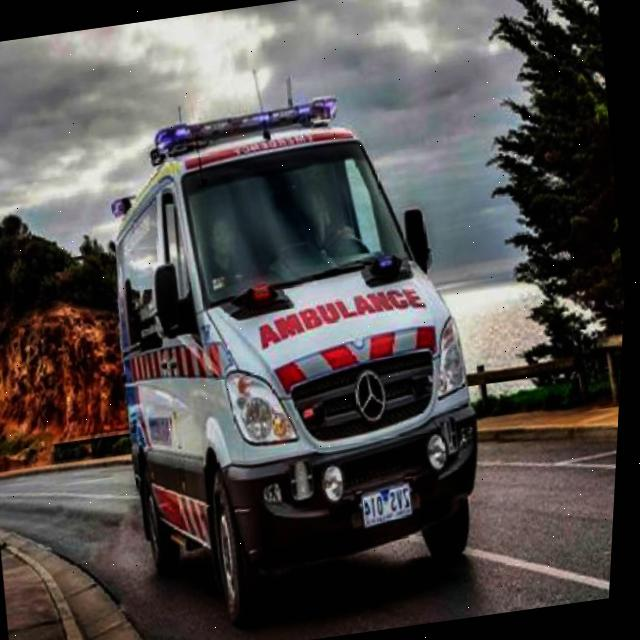emergency: (74, 48, 522, 640)
